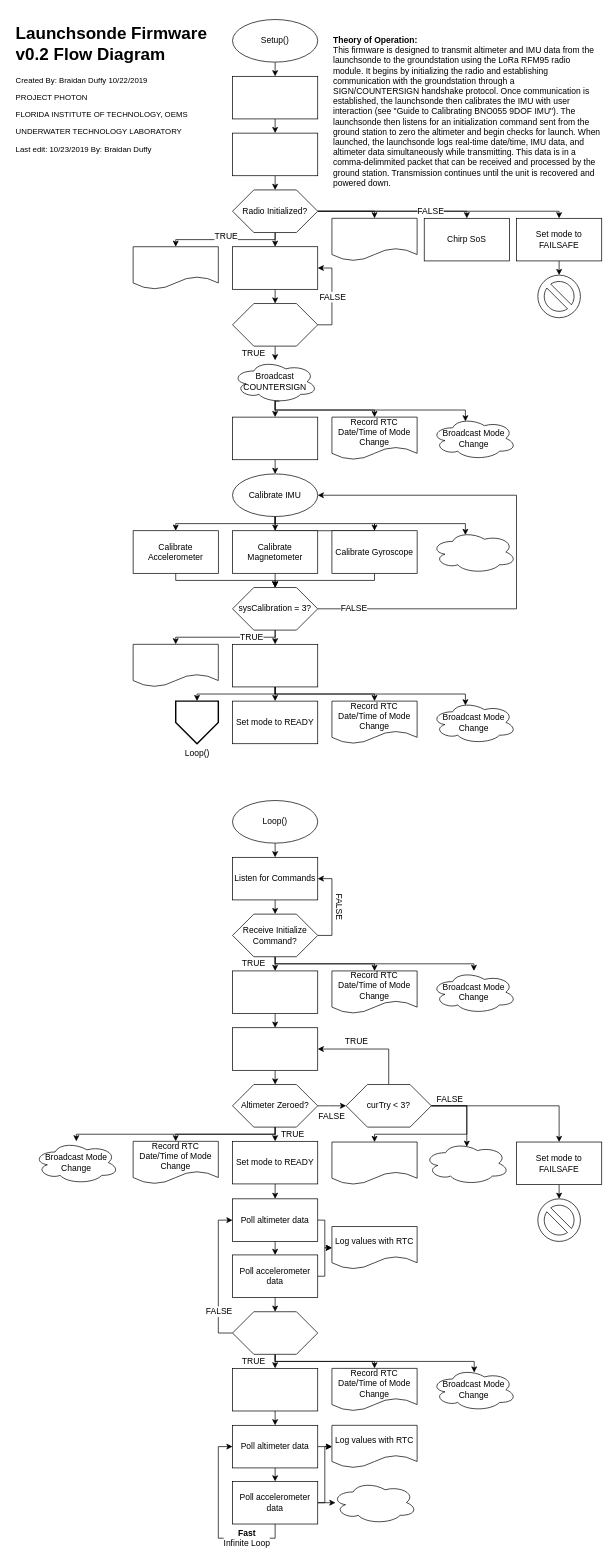
The diagram is 614 pixels wide and 1560 high, and some of its shapes have lost their labels. The box of each missing label's shape, as (x1, y1, x2, y2) in pixels:
Broadcast AltimeterFailure: (424, 1141, 509, 1185)
Broadcast Calib. Data: (431, 530, 517, 573)
Broadcast data with RTC: (331, 1481, 417, 1524)
Confirmation Beep: (232, 644, 318, 687)
Initialize Radio: (232, 132, 318, 176)
Large acceleration OR altimeter spike?: (232, 1311, 318, 1354)
Listen for SIGN: (232, 246, 318, 289)
Recieve SIGN from Ground Station?: (232, 303, 318, 346)
Record RTC Date/Time of altimeter failure: (331, 1141, 417, 1185)
Record RTC Date/Time of Calibration: (132, 644, 218, 687)
Record RTC Date/Time of Radio Initialization: (132, 246, 218, 289)
Record RTC Date/Time of Radio Initialization Failure: (331, 218, 417, 261)
Set mode to BOOTING: (232, 76, 318, 119)
Set mode to INITIALIZING: (232, 970, 318, 1014)
Set mode to LAUNCHING: (232, 1368, 318, 1411)
Set mode to STANDBY: (232, 416, 318, 460)
Zero Altimeter: (232, 1027, 318, 1070)
